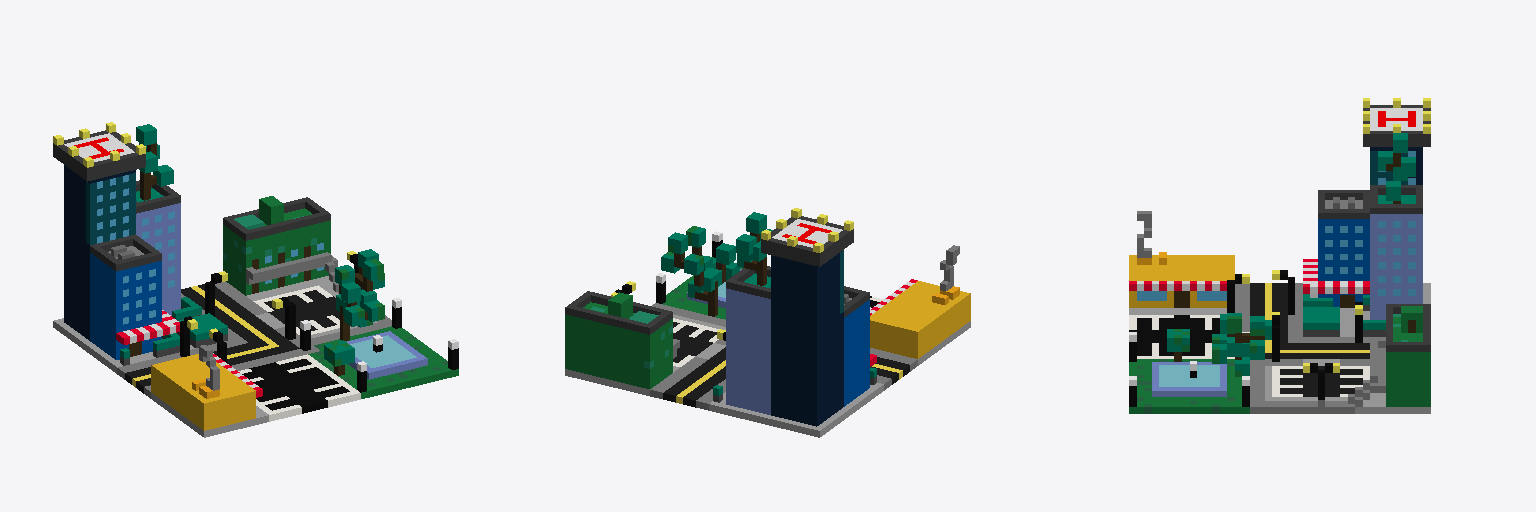
The picture shows the model from 3 angles: view 1: azimuth 30°, elevation 25°; view 2: azimuth 150°, elevation 25°; view 3: azimuth 270°, elevation 25°; orthographic projection.
Visible parts, largest first — view 1: miniciudad; view 2: miniciudad; view 3: miniciudad.
Part boxes in pixels (left/top/right/bottom): miniciudad: left=53, top=122, right=458, bottom=437; miniciudad: left=565, top=208, right=970, bottom=437; miniciudad: left=1129, top=98, right=1430, bottom=413.
Size of the model in its own units: 39 by 28 by 40.
Materials: 1 (1 with a texture image).